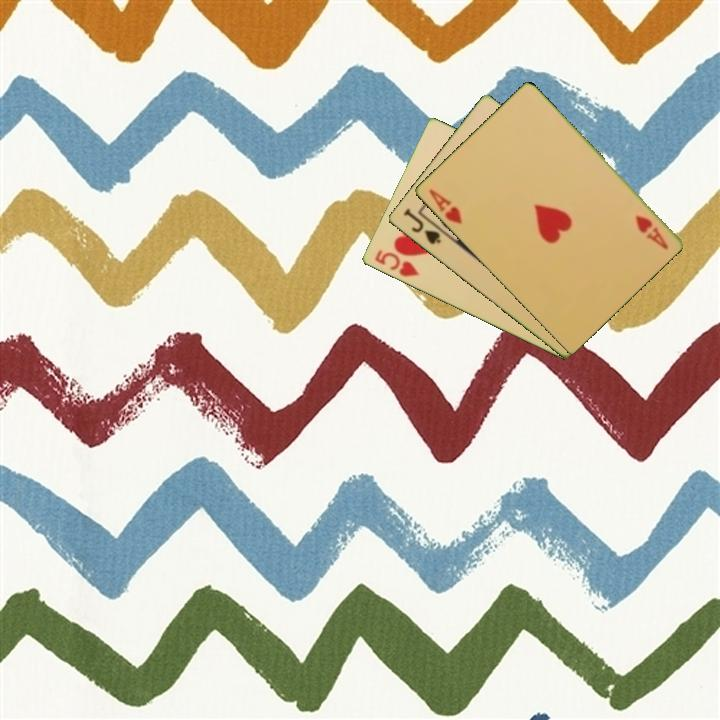5h: (371, 246, 421, 280)
Ah: (424, 185, 465, 227), (631, 211, 671, 252)
Js: (399, 205, 443, 247)
